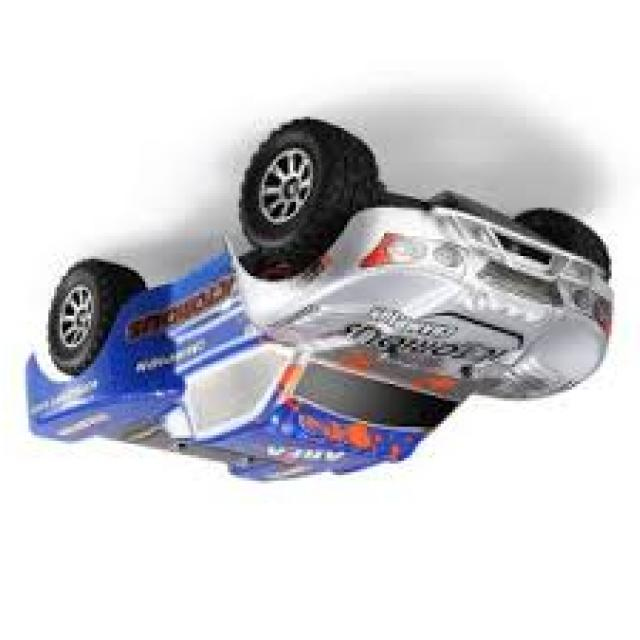Car: (26, 120, 617, 487)
